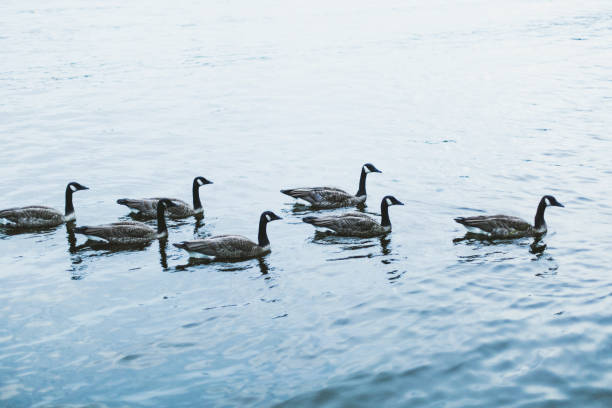goose: (174, 210, 282, 266), (450, 194, 567, 245), (73, 199, 177, 252), (302, 194, 406, 243), (1, 179, 93, 233), (280, 162, 383, 207), (119, 173, 214, 218)
